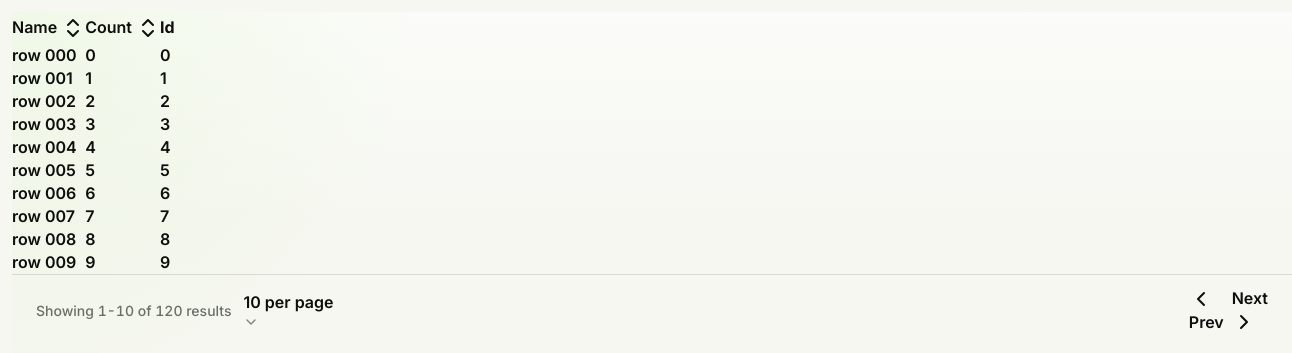
<DataTable> pages › pages rows it holds in the browser
Expected: the text "Showing 1-10 of 120 results" is shown, x1=36 y1=301 x2=232 y2=321
Expected: the button with aria-label "Previous page" is disabled, x1=1189 y1=287 x2=1224 y2=334
Click the button with aria-label "Next page": coordinates (1250, 311) x1=1232 y1=287 x2=1268 y2=334
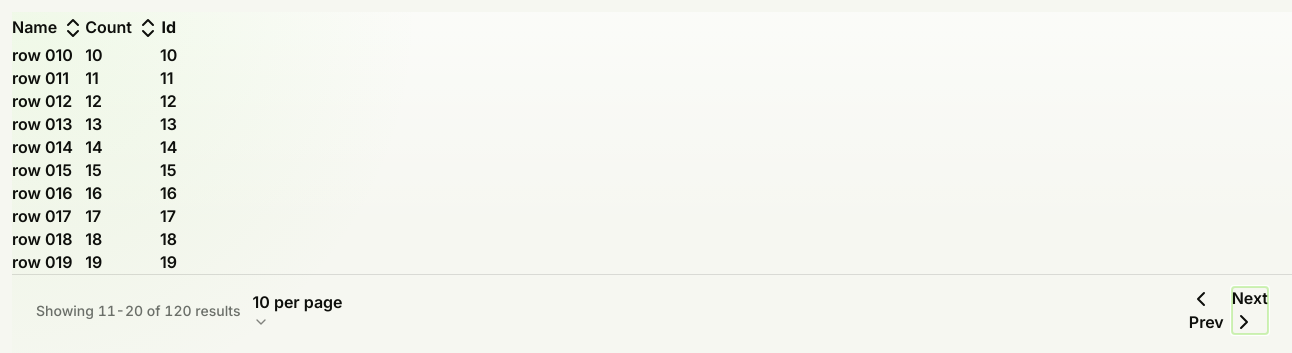
Expected: the text "Showing 11-20 of 120 results" is shown, x1=36 y1=301 x2=240 y2=321
Expected: the cell "row 010" is shown, x1=12 y1=44 x2=85 y2=67
